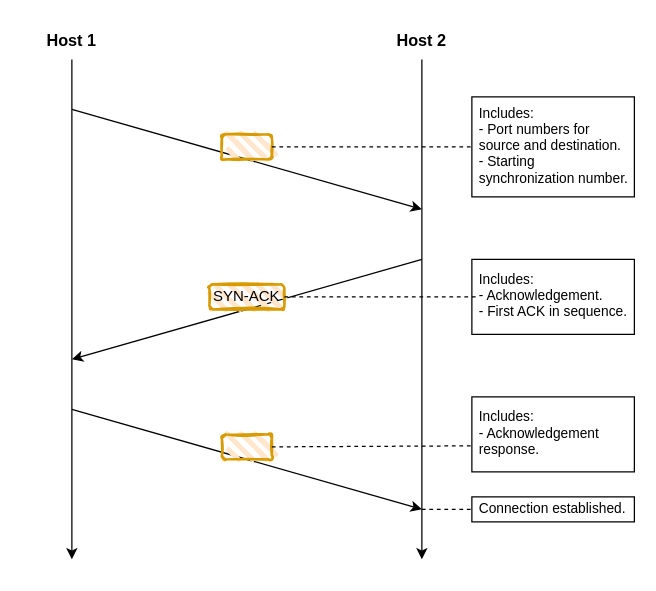
Image size: 656x591. Some labels were removed from this diagram. The box of each missing label's shape, as (x1, y1, x2, y2) in pixels:
ACK: (220, 432, 272, 460)
SYN: (220, 132, 272, 160)
